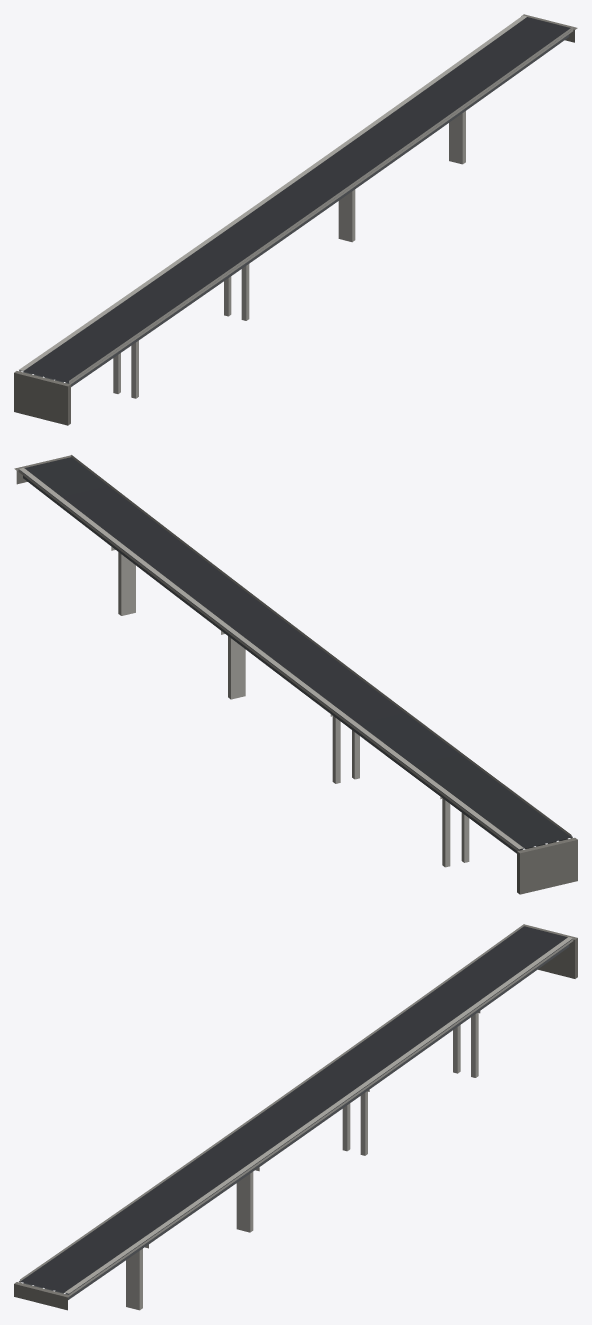
The model's file is br_r20_beverly_lod1.gltf.
3 views of the same model, one above another, from view 1: azimuth 90°, elevation 25°; view 2: azimuth 150°, elevation 25°; view 3: azimuth 270°, elevation 25° (orthographic). The views are drawn at different scales.
Parts seen in each view (by area): view 1: br_r20_beverly_lod1; view 2: br_r20_beverly_lod1; view 3: br_r20_beverly_lod1.
Boxes of the visible parts, <box> form: br_r20_beverly_lod1: <box>14,14,577,425</box>; br_r20_beverly_lod1: <box>14,455,577,894</box>; br_r20_beverly_lod1: <box>14,924,577,1310</box>.
Size of the model in its own units: 288 by 29.74 by 184.
